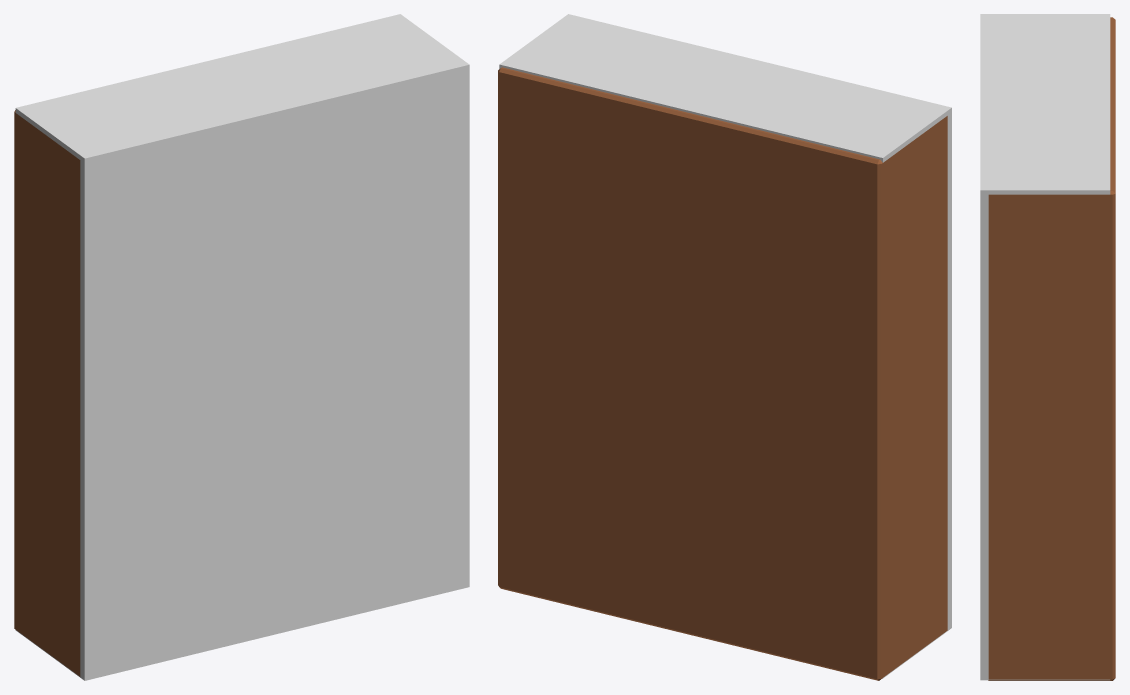
The model's file is shelf-e.glb.
3 renders of one model, left to right at view 1: azimuth 30°, elevation 25°; view 2: azimuth 150°, elevation 25°; view 3: azimuth 270°, elevation 25°, orthographic. The views are drawn at different scales.
Visible parts, largest first — view 1: Shelf E_col, Shelf E; view 2: Shelf E, Shelf E_col; view 3: Shelf E, Shelf E_col.
Boxes of the visible parts, x1,y1,x2,y2 form: Shelf E_col: [15, 14, 469, 680]; Shelf E: [14, 110, 80, 676]; Shelf E: [498, 67, 947, 680]; Shelf E_col: [499, 14, 951, 678]; Shelf E: [988, 17, 1115, 680]; Shelf E_col: [980, 14, 1110, 680].
Bounding box in the file's own units: 6.14 × 8 × 1.99.
